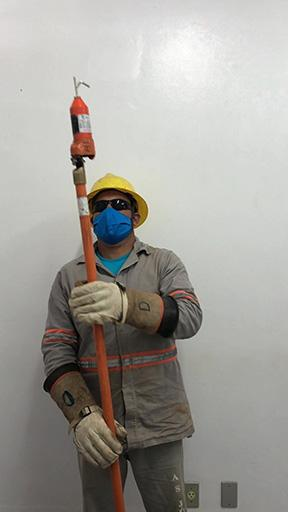Detector_Tensao_Contato: (68, 73, 97, 162)
Vara_Manobra: (70, 161, 125, 512)
